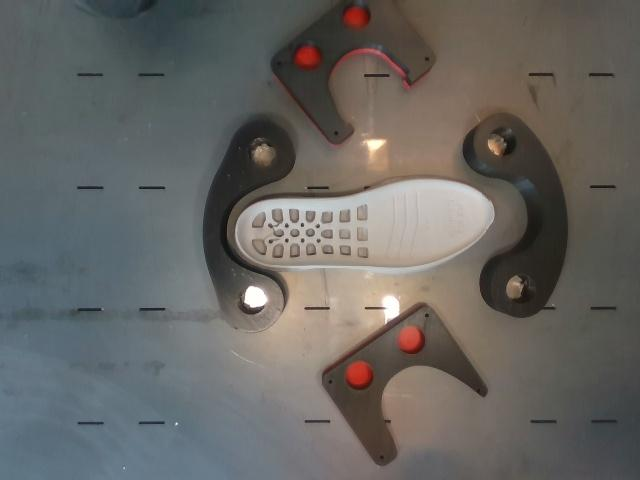shoes: (236, 180, 493, 268)
